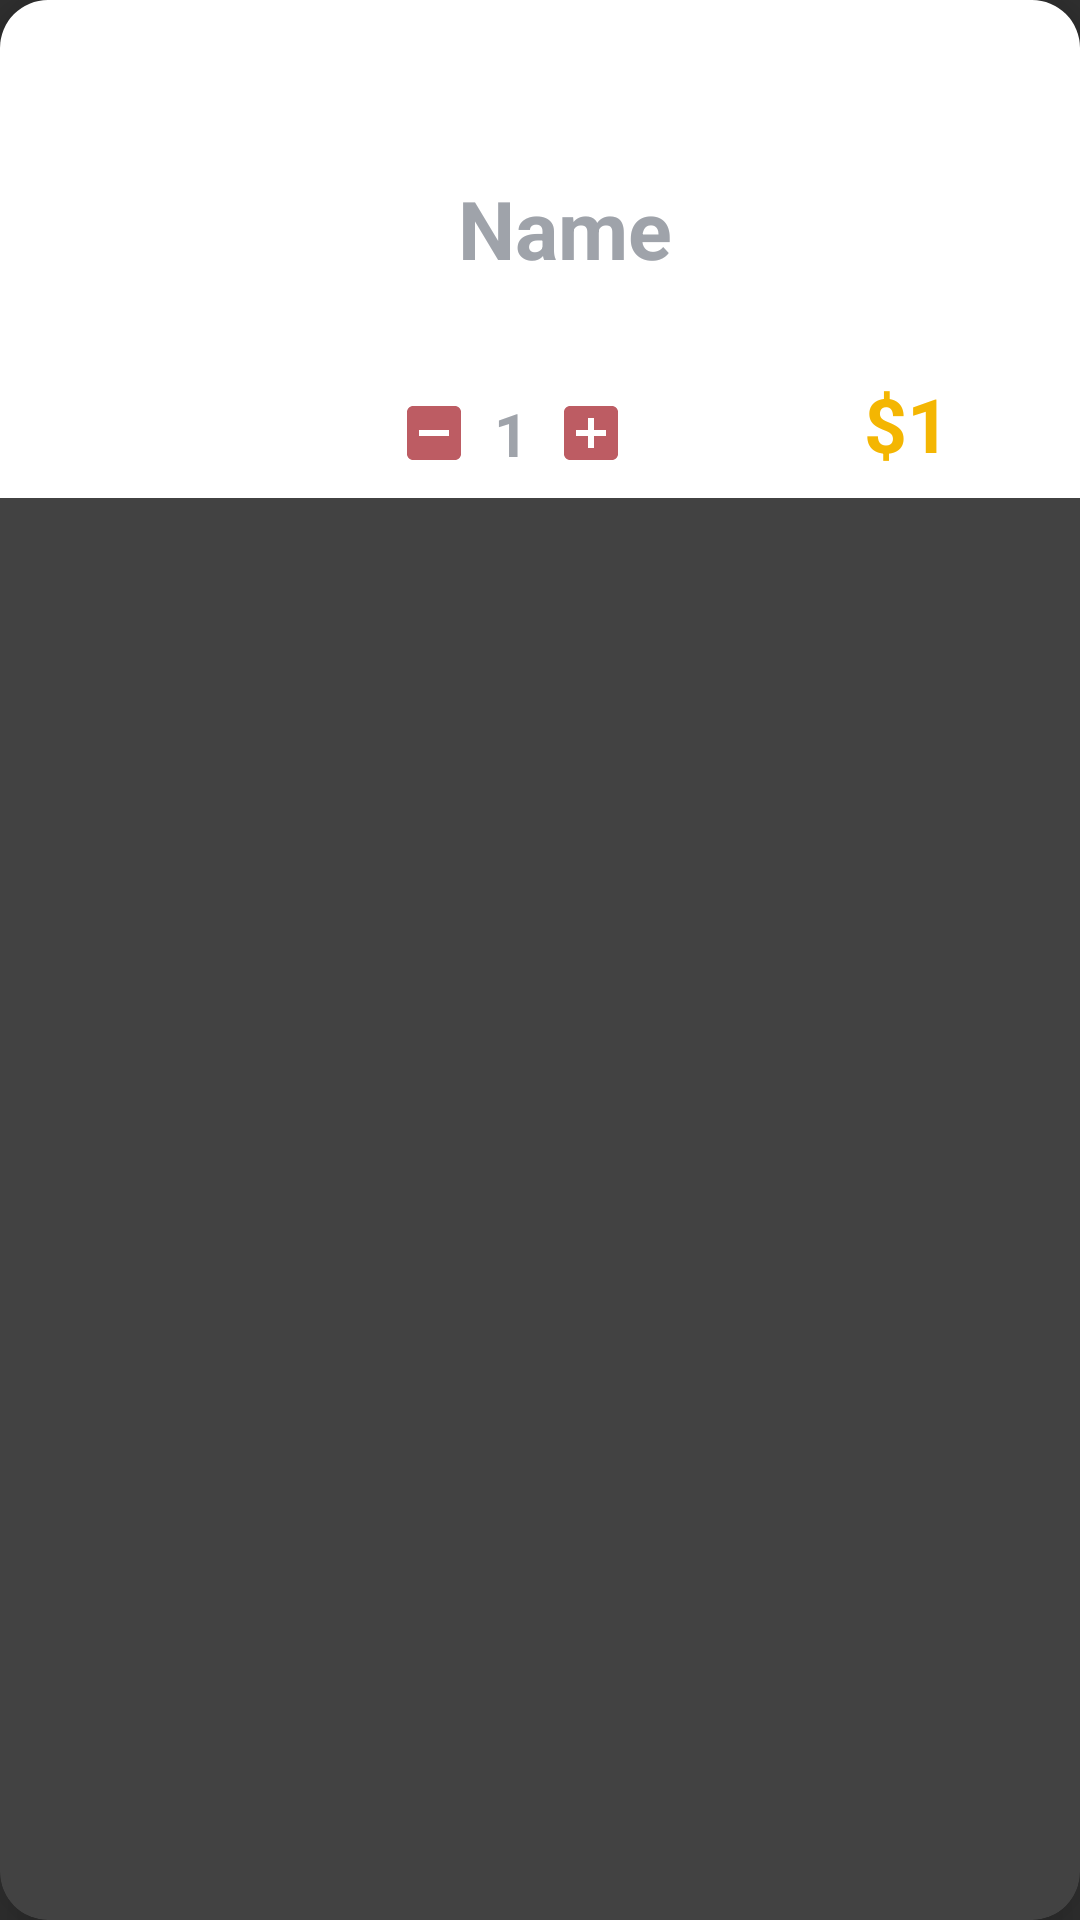

Icons on this 1080 x 1920 Android screen, each with the point to tap as [x,y]:
add box: [591,433]
indeterminate check box: [434,433]
